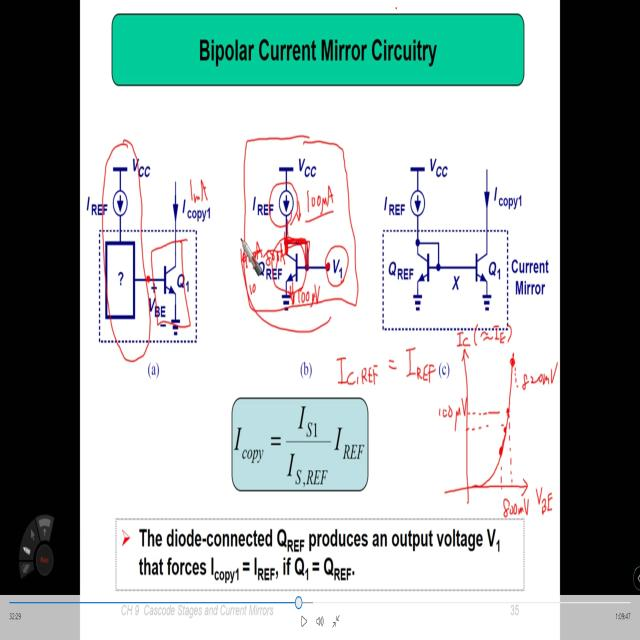panseo: (436, 318, 561, 550), (329, 343, 440, 396), (181, 173, 214, 209)
